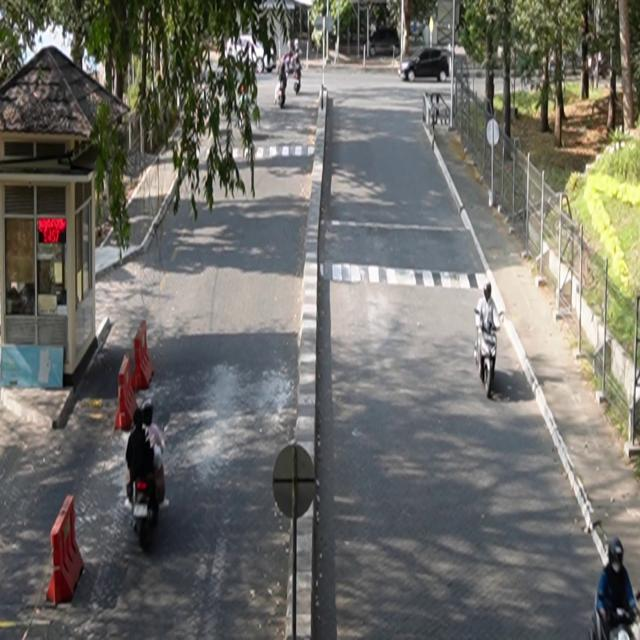car: (399, 47, 452, 83), (365, 27, 401, 59)
